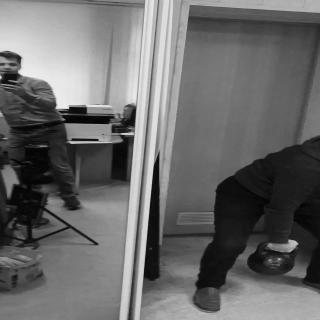kettlebell: (248, 243, 299, 278)
